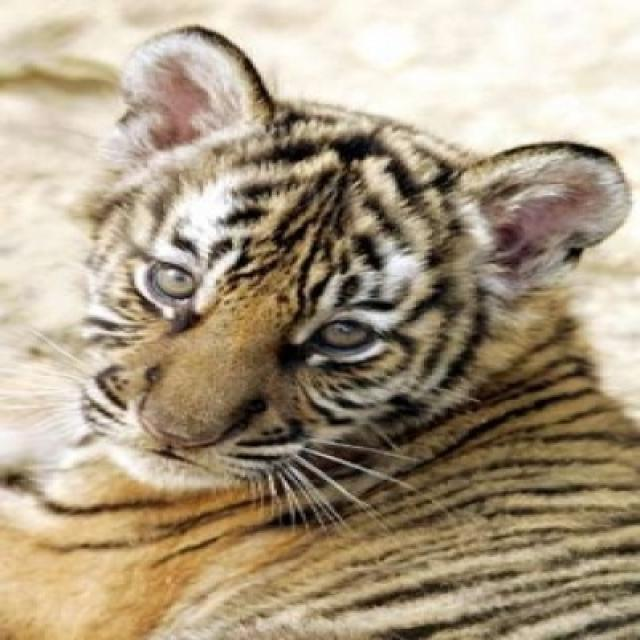Tiger: (3, 31, 638, 632)
